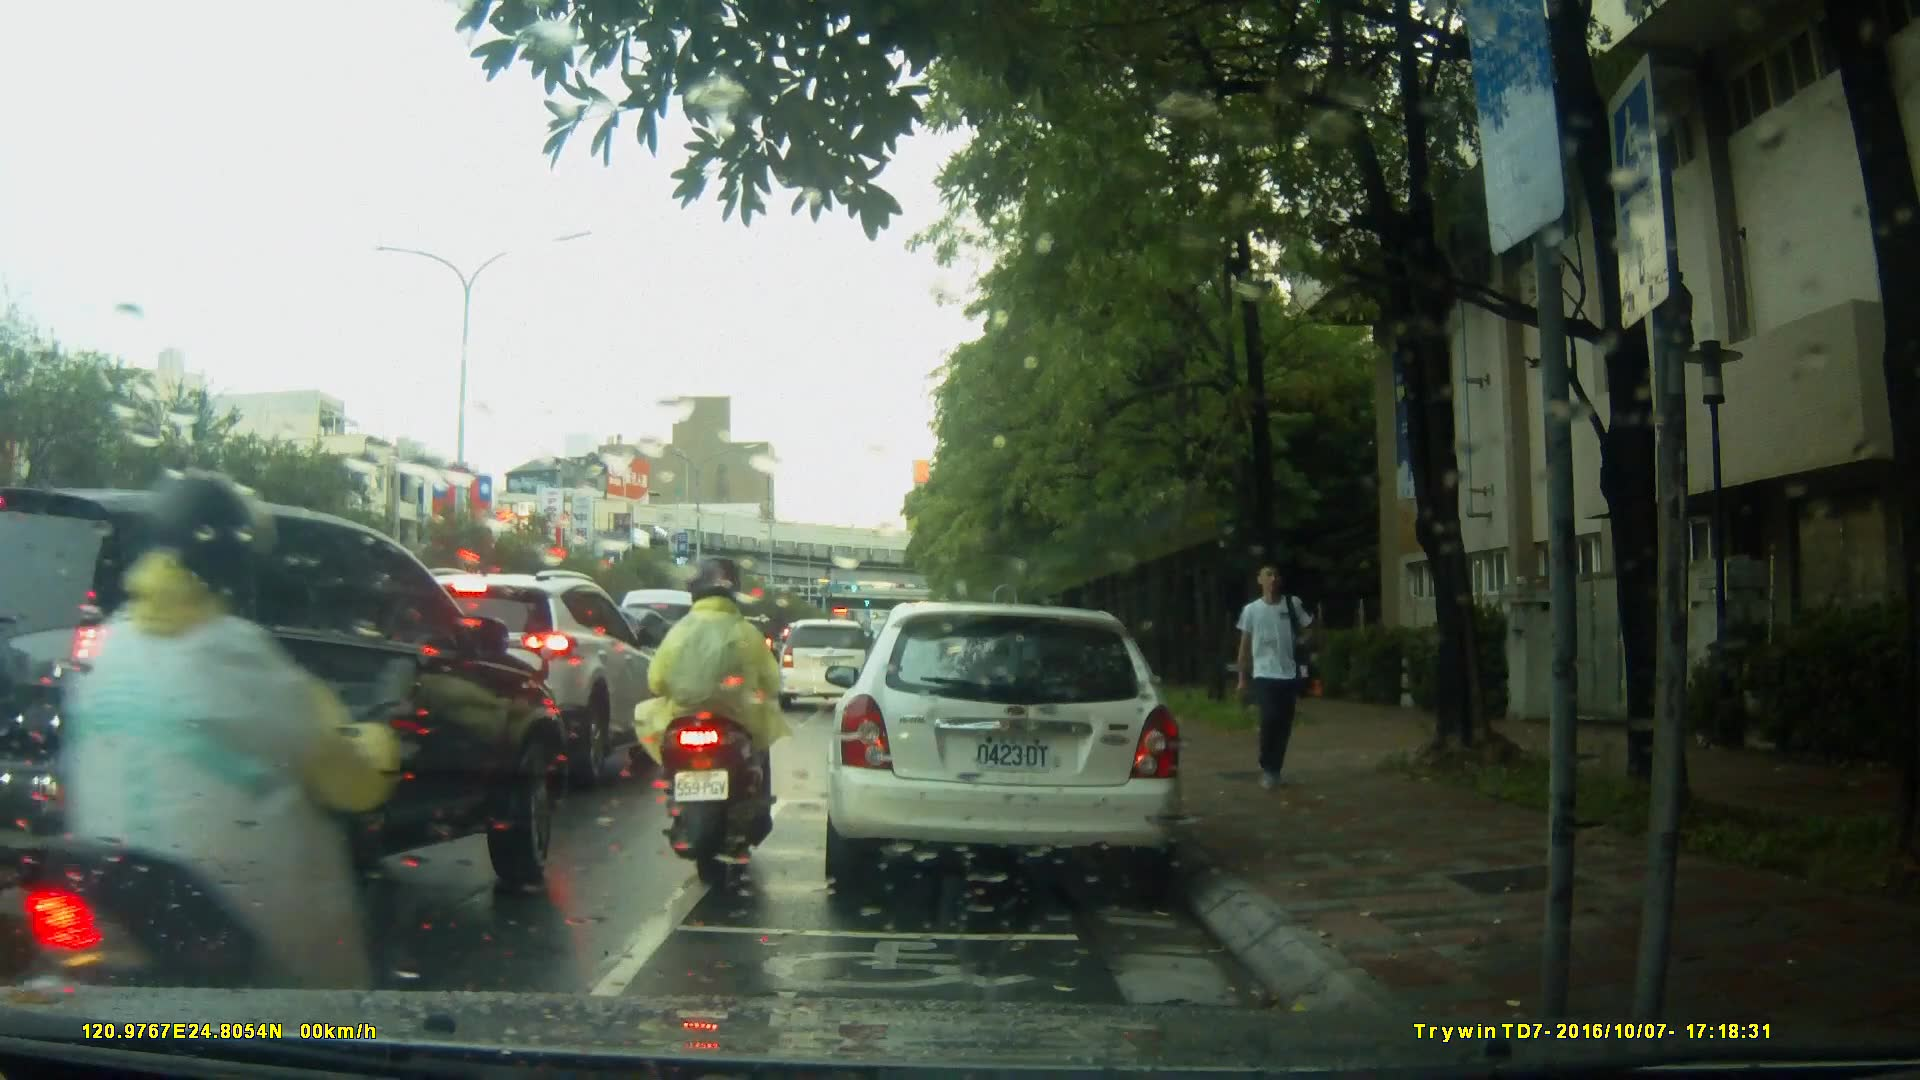pedestrian: (1225, 559, 1322, 803)
rider: (29, 478, 397, 1051), (647, 555, 796, 883)
vehicle: (1, 480, 572, 973), (820, 602, 1188, 898), (361, 566, 669, 784), (612, 588, 731, 717), (771, 617, 880, 711)
